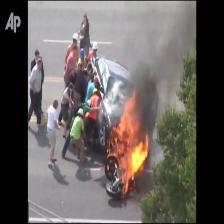fire: (112, 106, 151, 176)
smoke: (133, 20, 171, 101)
